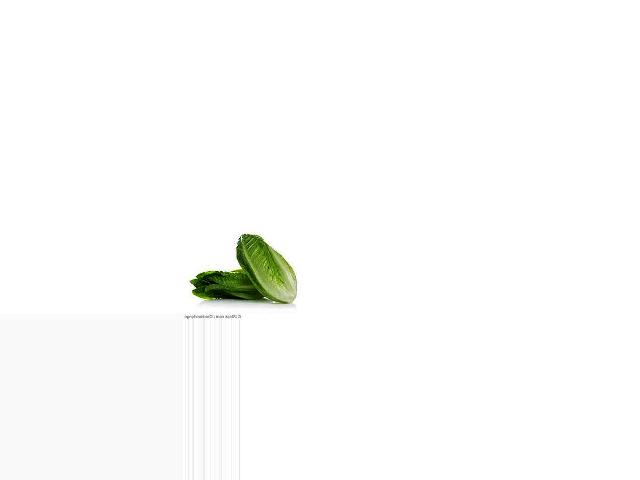lettuce: (191, 262, 263, 309)
